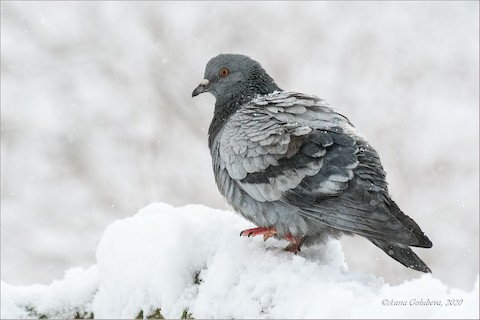pigeon: (190, 52, 435, 277)
